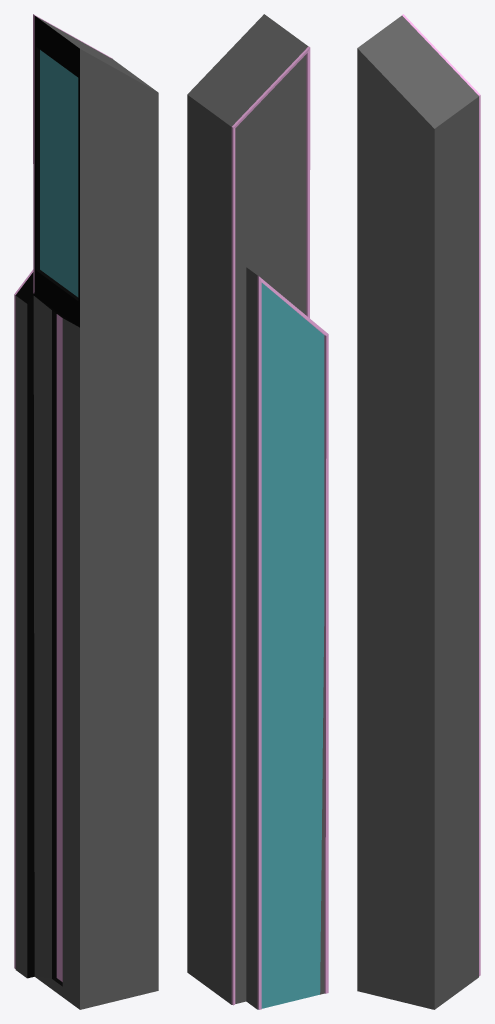
File: SM_Environment_Buildings_Tall_06.fbx
The picture shows the model from 3 angles, left to right: view 1: azimuth 30°, elevation 25°; view 2: azimuth 210°, elevation 25°; view 3: azimuth 330°, elevation 25°; orthographic projection. The views are drawn at different scales.
Visible parts, largest first — view 1: SM_Environment_Buildings_Tall_06, Lights; view 2: SM_Environment_Buildings_Tall_06, Lights; view 3: SM_Environment_Buildings_Tall_06, Lights.
Boxes of the visible parts, x1,y1,x2,y2 form: SM_Environment_Buildings_Tall_06: (15, 16, 158, 1009); Lights: (14, 14, 112, 968); SM_Environment_Buildings_Tall_06: (187, 14, 324, 1009); Lights: (231, 46, 328, 1009); SM_Environment_Buildings_Tall_06: (357, 15, 478, 1009); Lights: (402, 14, 480, 976).
Size of the model in its own units: 6.57 by 70.03 by 7.74.
